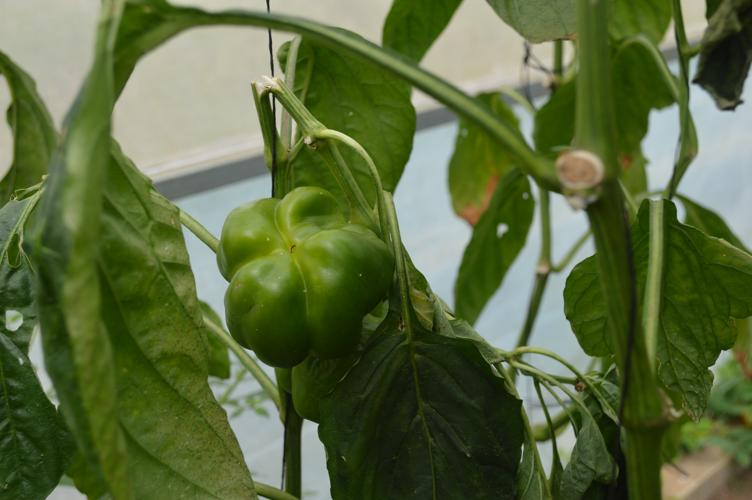BellPepper: (213, 185, 401, 376)
